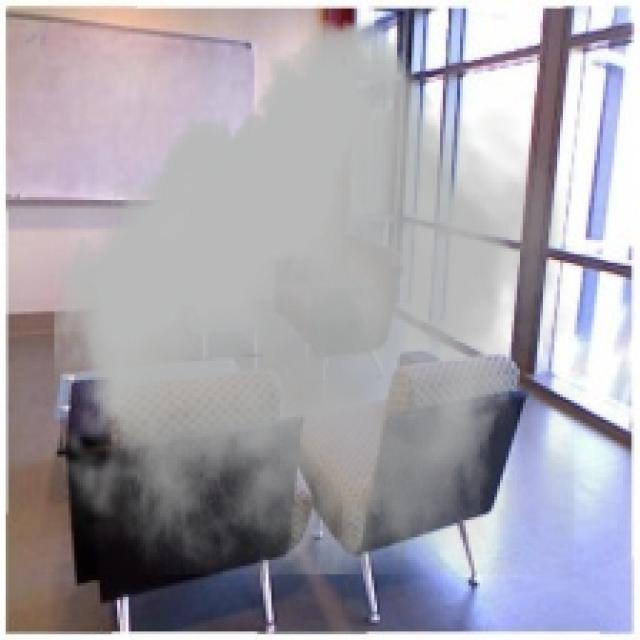smoke: (46, 20, 574, 574)
